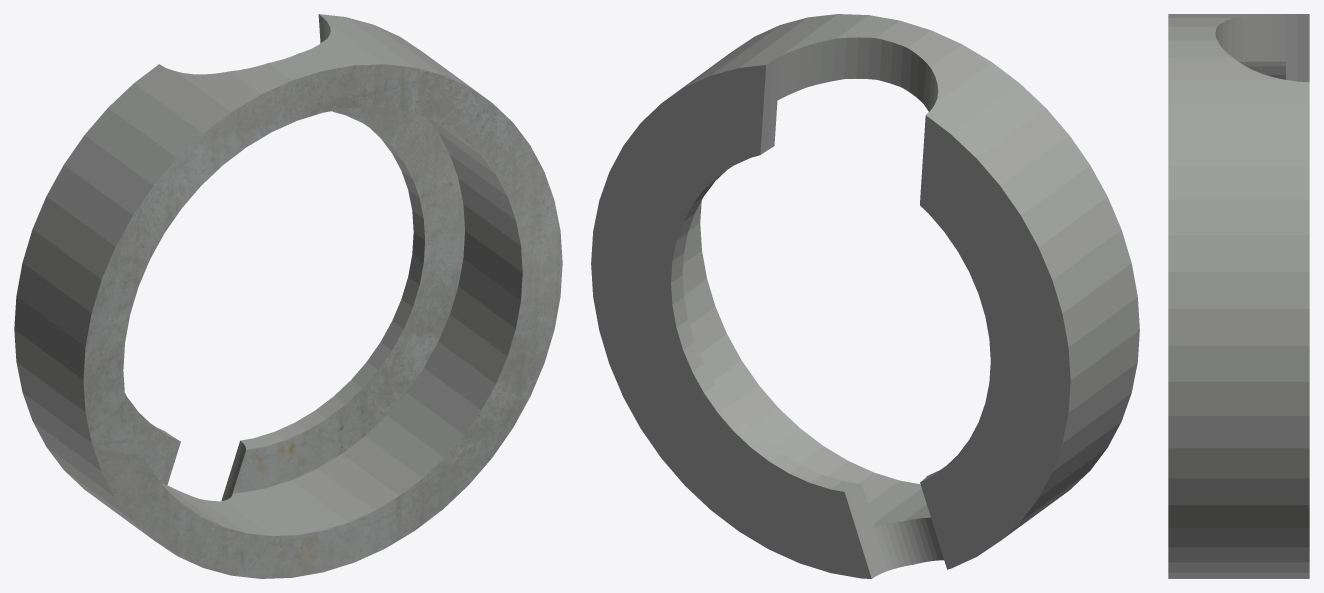
The model's file is pool_017.obj.
3 views of the same model, side by side, from view 1: azimuth 30°, elevation 25°; view 2: azimuth 150°, elevation 25°; view 3: azimuth 270°, elevation 25° (orthographic). The views are drawn at different scales.
Size of the model in its own units: 12 by 12 by 3.
